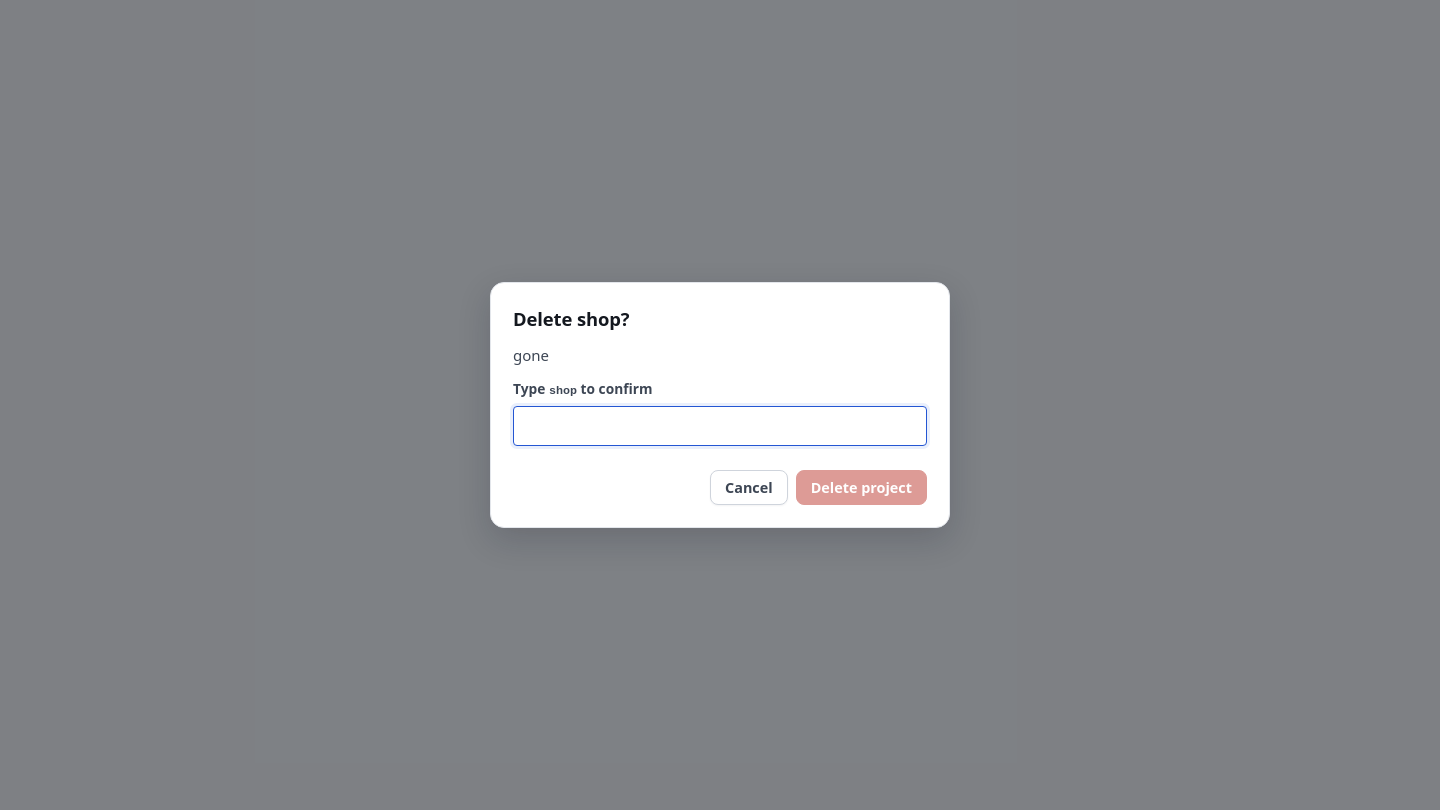
Test: ConfirmDialog › needs the typed name before a destructive confirm, and Escape cancels
Later steps or results of the test are not shown.
Expected: the button "Delete project" is disabled, [796,470,927,505]
Type "shop" into the field at (720, 426), box [513,406,927,446]
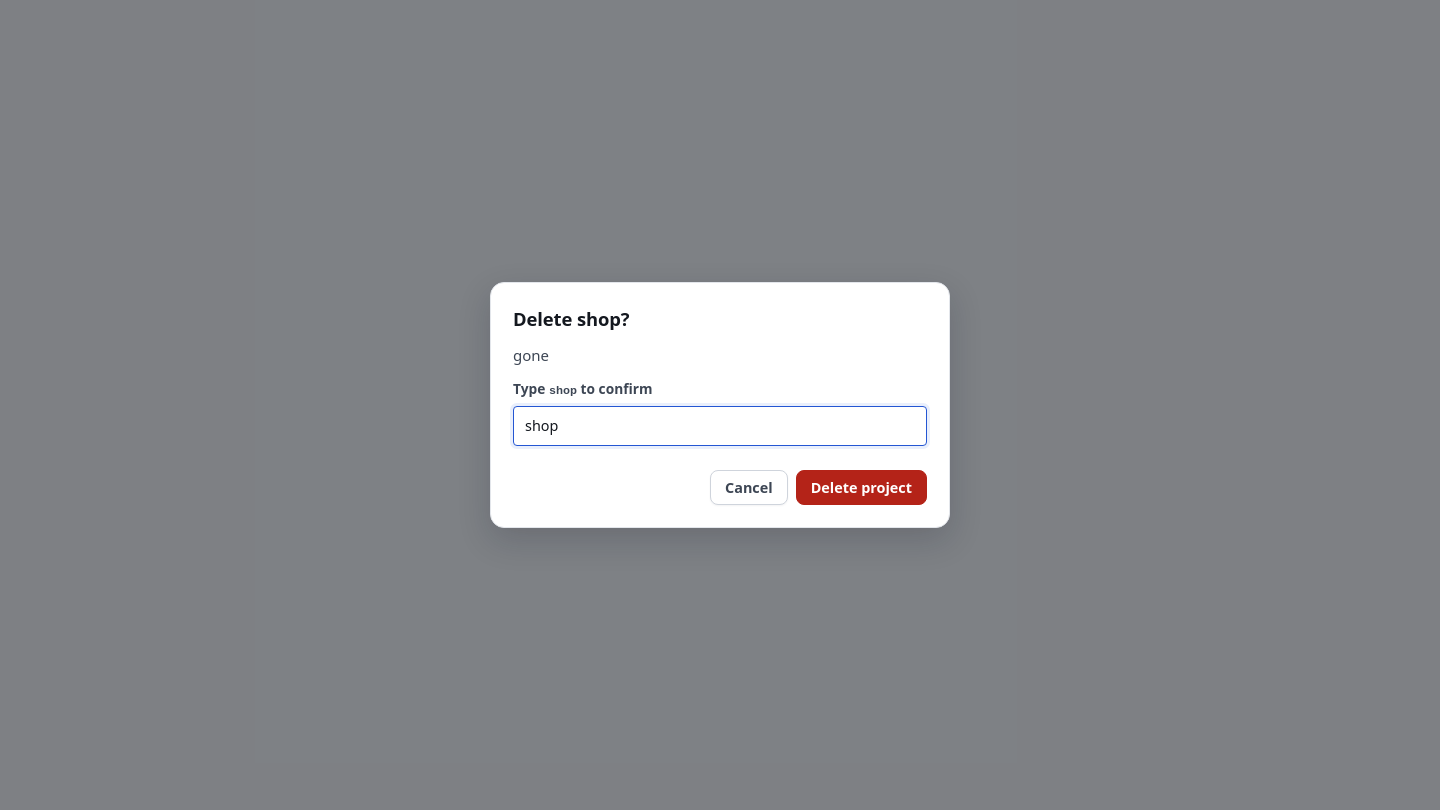
Expected: the button "Delete project" is enabled, [796,470,927,505]
